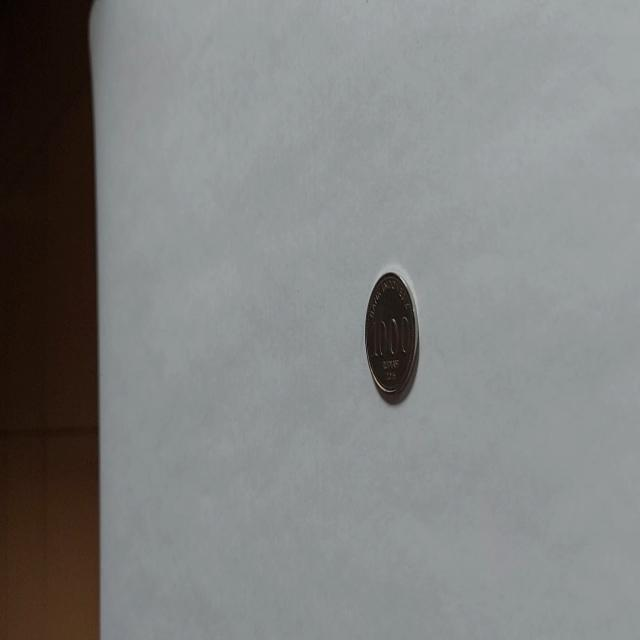seribu rupiah koin: (363, 270, 419, 404)
